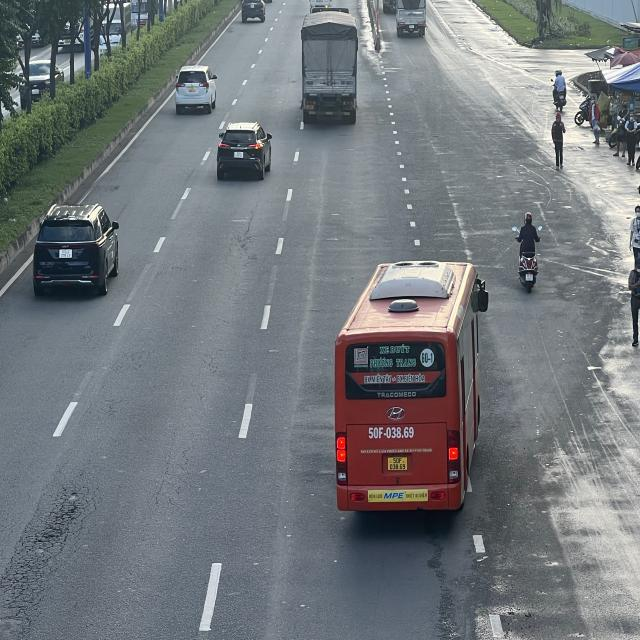car: (34, 202, 120, 295), (217, 122, 276, 180), (177, 64, 220, 112)
coach: (332, 259, 491, 516)
truck: (302, 8, 360, 125), (394, 0, 426, 37)
